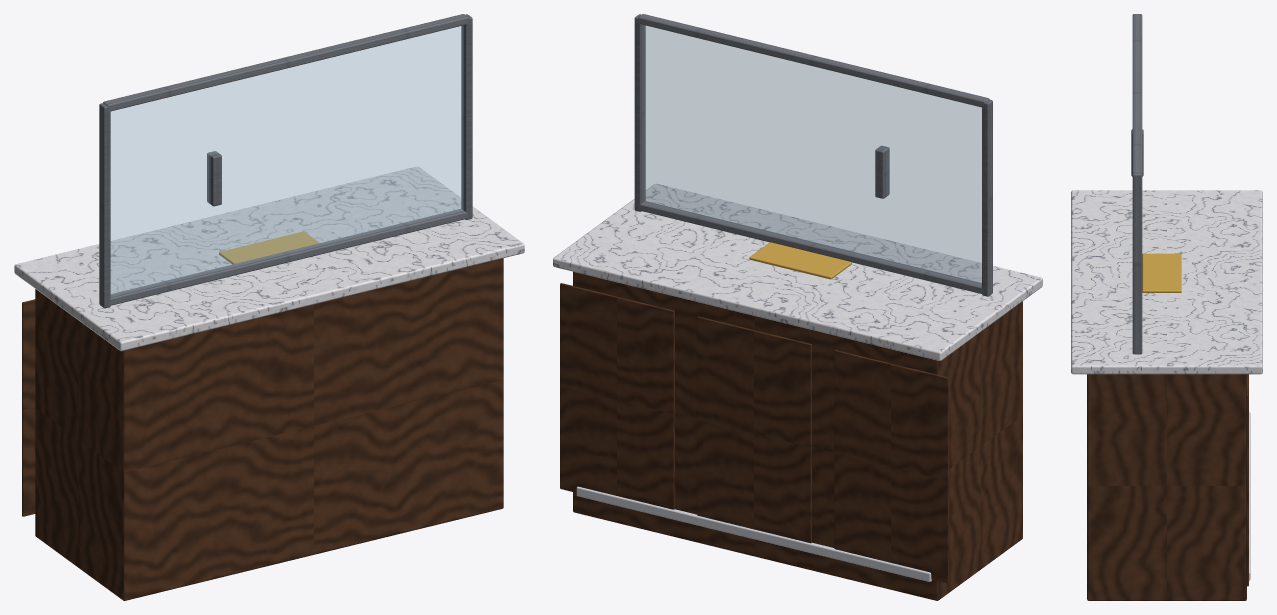
The model's file is BankCounter.obj.
The picture shows the model from 3 angles, left to right: view 1: azimuth 30°, elevation 25°; view 2: azimuth 150°, elevation 25°; view 3: azimuth 270°, elevation 25°; orthographic projection. The views are drawn at different scales.
Size of the model in its own units: 1.7 by 1.91 by 0.78.
Materials: 7 (4 with a texture image).
